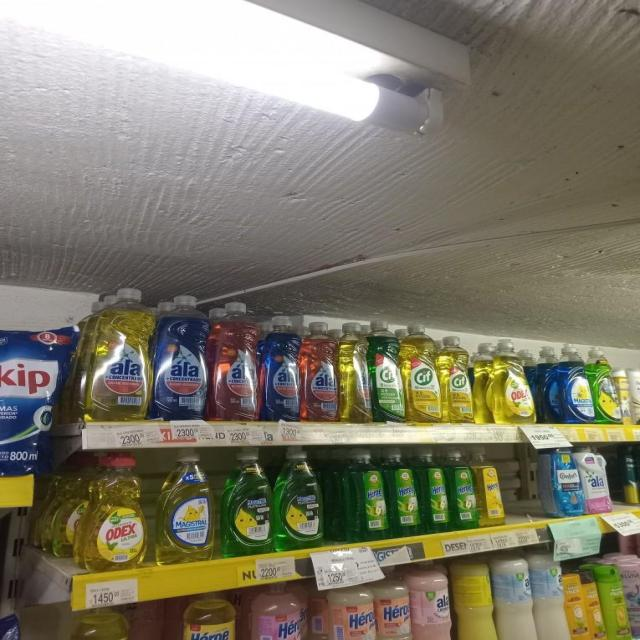ala_conc_amarillo: (84, 287, 150, 421)
ala_conc_azul: (153, 292, 208, 420), (261, 314, 300, 422)
ala_conc_rojo: (210, 301, 260, 421), (301, 318, 338, 424)
ala_crem_blanco: (494, 549, 538, 640)
ala_crem_rosado: (412, 562, 454, 640)
cif_conc_bot_amarilla: (404, 324, 439, 425), (339, 321, 372, 424), (441, 335, 473, 424)
cif_conc_botella_verde: (372, 321, 404, 424)
heroe: (243, 579, 307, 640), (173, 589, 238, 640), (328, 574, 376, 640), (57, 602, 132, 640), (376, 568, 411, 640)
magistral_con_amarillo: (156, 449, 216, 564)
